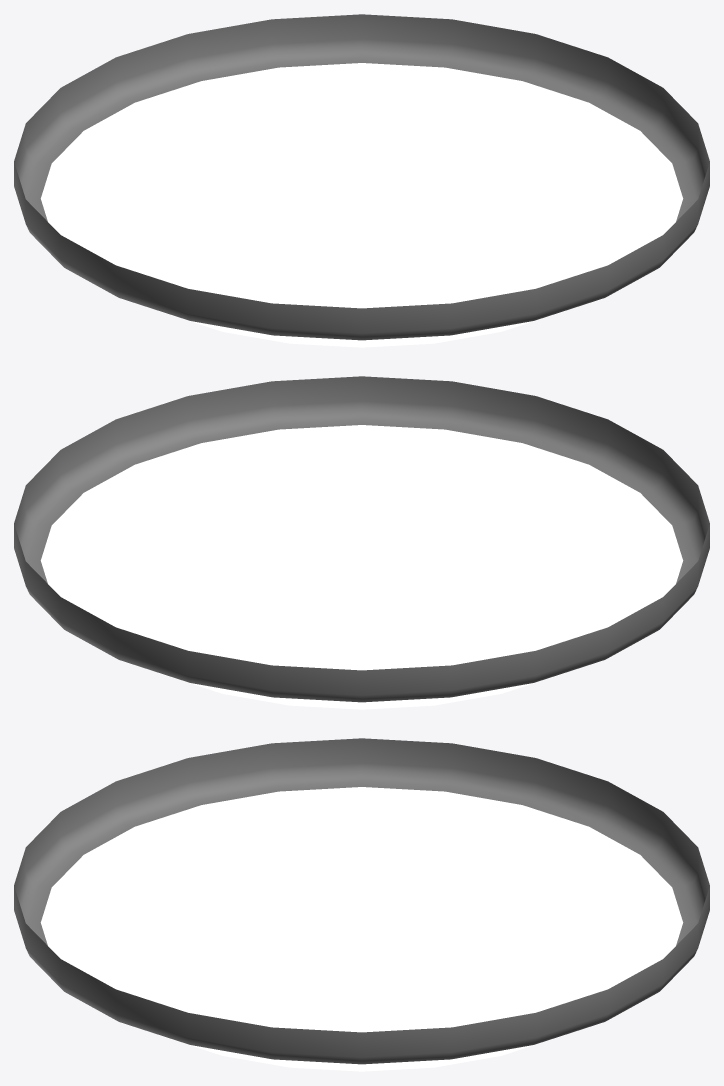
File: Light_Ceiling_01.glb
3 renders of one model, top to bottom at view 1: azimuth 30°, elevation 25°; view 2: azimuth 150°, elevation 25°; view 3: azimuth 270°, elevation 25°, orthographic.
Parts seen in each view (by area): view 1: Light_Ceiling; view 2: Light_Ceiling; view 3: Light_Ceiling.
Part boxes in pixels (bbox=[...]): Light_Ceiling: bbox=[14, 14, 709, 347]; Light_Ceiling: bbox=[14, 376, 709, 709]; Light_Ceiling: bbox=[14, 738, 709, 1071].
Bounding box in the file's own units: 0.402 × 0.0552 × 0.402.
1 material, 1 textured.
